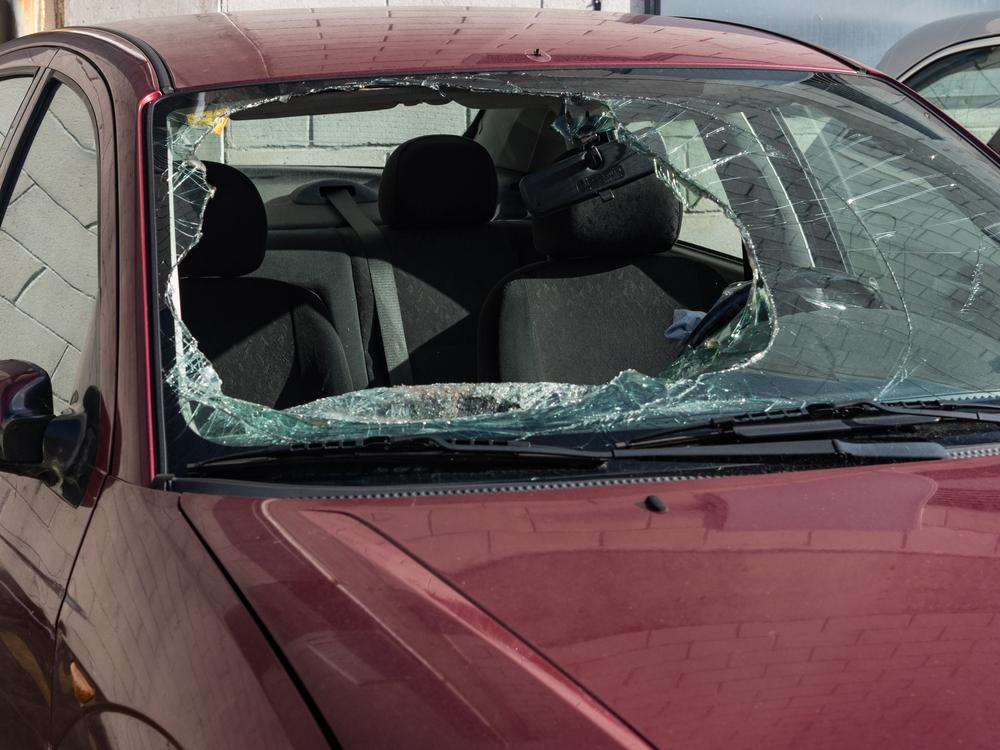glass shatter: (152, 67, 1000, 469)
